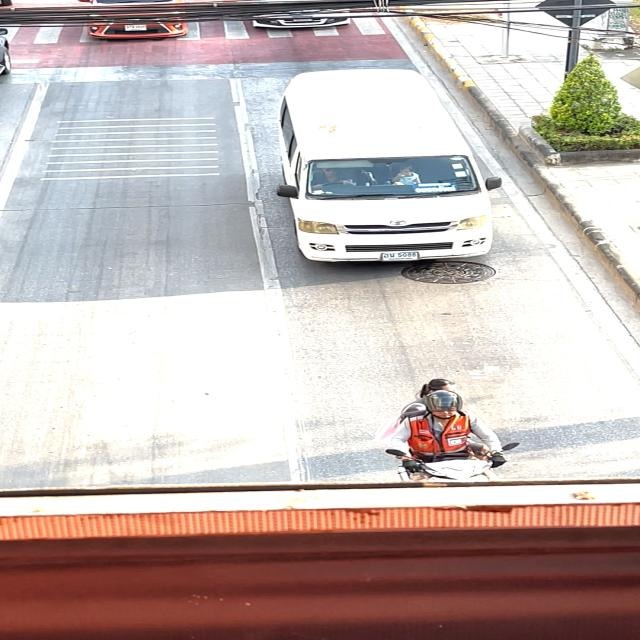car: (226, 59, 502, 282)
